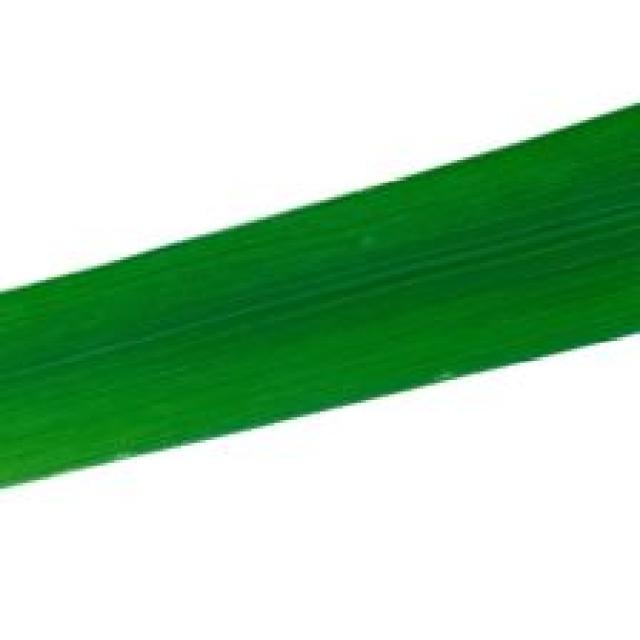Rice___Healthy_Rice_Plant: (0, 103, 637, 491)
